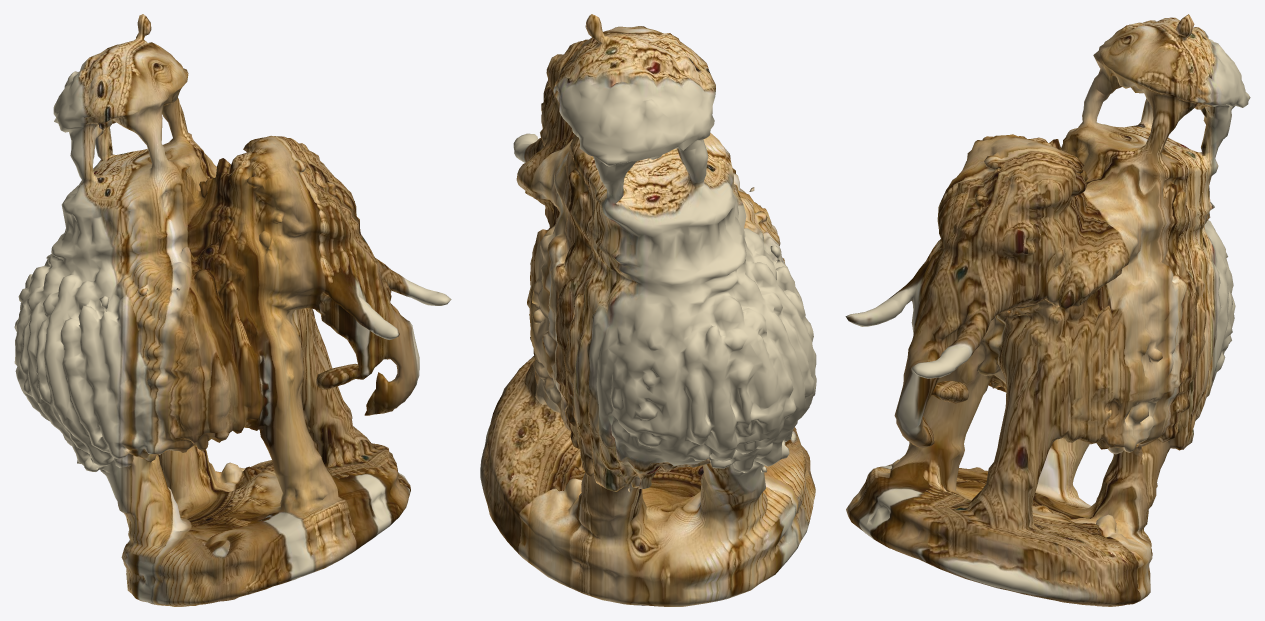
File: gaja.glb
3 views of the same model, side by side, from view 1: azimuth 30°, elevation 25°; view 2: azimuth 150°, elevation 25°; view 3: azimuth 270°, elevation 25° (orthographic). The views are drawn at different scales.
Visible parts, largest first — view 1: geometry_0; view 2: geometry_0; view 3: geometry_0.
Part boxes in pixels (left/top/right/bottom): geometry_0: left=14, top=14, right=451, bottom=606; geometry_0: left=480, top=14, right=816, bottom=606; geometry_0: left=845, top=14, right=1250, bottom=606.
Bounding box in the file's own units: 0.6971 × 1.05 × 0.6774.
1 material, 1 textured.
